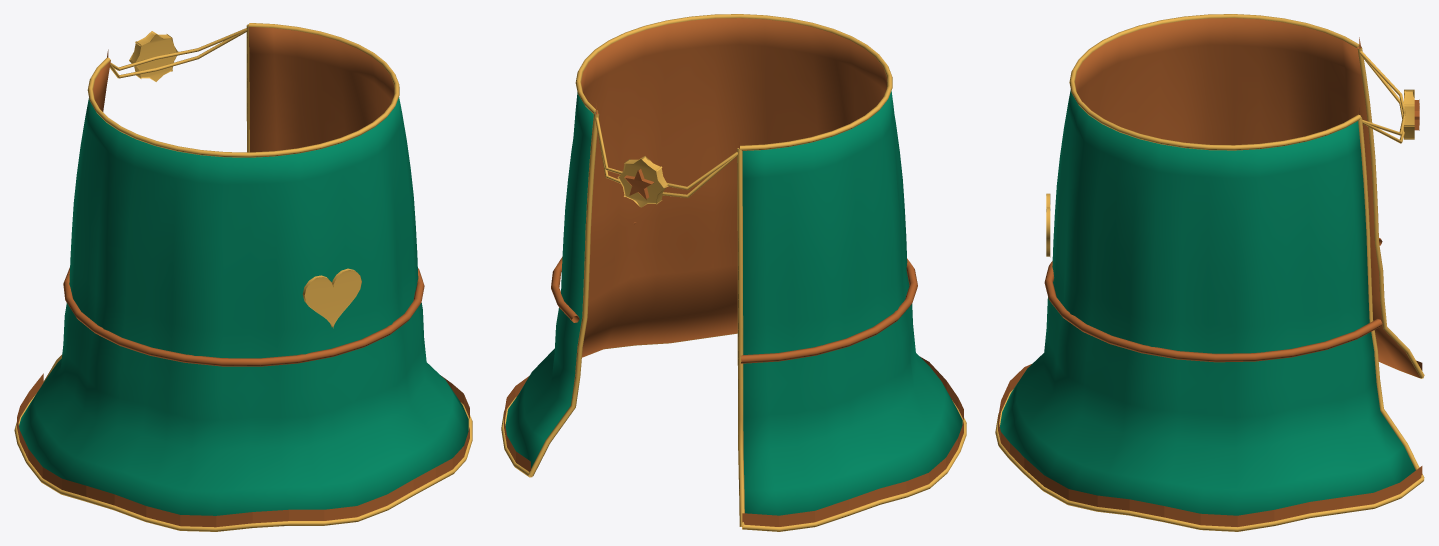
File: velvet-court-rook.glb
3 renders of one model, left to right at view 1: azimuth 30°, elevation 25°; view 2: azimuth 150°, elevation 25°; view 3: azimuth 270°, elevation 25°, orthographic.
Parts seen in each view (by area): view 1: tailored_cloth, broad_embroidered_hem, court_sash, tailored_gold_binding, tailored_gold_binding.001, back_heraldry, brooch_gold, clasp_chain.001, clasp_chain; view 2: tailored_cloth, broad_embroidered_hem, tailored_gold_binding, court_sash, tailored_gold_binding.003, tailored_gold_binding.002, tailored_gold_binding.001, brooch_gold, clasp_chain; view 3: tailored_cloth, broad_embroidered_hem, court_sash, tailored_gold_binding, tailored_gold_binding.001, tailored_gold_binding.003, tailored_gold_binding.002, brooch_gold, clasp_chain.
Boxes of the visible parts, <box> form: tailored_cloth: <box>19,27,468,515</box>; broad_embroidered_hem: <box>17,373,469,527</box>; court_sash: <box>63,267,424,366</box>; tailored_gold_binding: <box>87,23,399,157</box>; tailored_gold_binding.001: <box>14,394,472,531</box>; back_heraldry: <box>302,268,361,328</box>; brooch_gold: <box>129,31,178,81</box>; clasp_chain.001: <box>109,30,247,78</box>; clasp_chain: <box>110,28,247,70</box>; tailored_cloth: <box>505,18,962,526</box>; broad_embroidered_hem: <box>504,356,963,526</box>; tailored_gold_binding: <box>575,14,892,150</box>; court_sash: <box>551,222,917,363</box>; tailored_gold_binding.003: <box>737,148,744,526</box>; tailored_gold_binding.002: <box>528,112,599,476</box>; tailored_gold_binding.001: <box>501,333,966,531</box>; brooch_gold: <box>617,156,668,207</box>; clasp_chain: <box>595,117,737,189</box>; tailored_cloth: <box>1000,18,1420,515</box>; broad_embroidered_hem: <box>998,360,1422,526</box>; court_sash: <box>1044,238,1382,362</box>; tailored_gold_binding: <box>1069,14,1361,150</box>; tailored_gold_binding.001: <box>995,363,1424,531</box>; tailored_gold_binding.003: <box>1357,46,1424,378</box>; tailored_gold_binding.002: <box>1358,116,1424,478</box>; brooch_gold: <box>1404,89,1414,139</box>; clasp_chain: <box>1359,51,1404,135</box>.
Size of the model in its own units: 0.6508 by 0.5633 by 0.6022.
